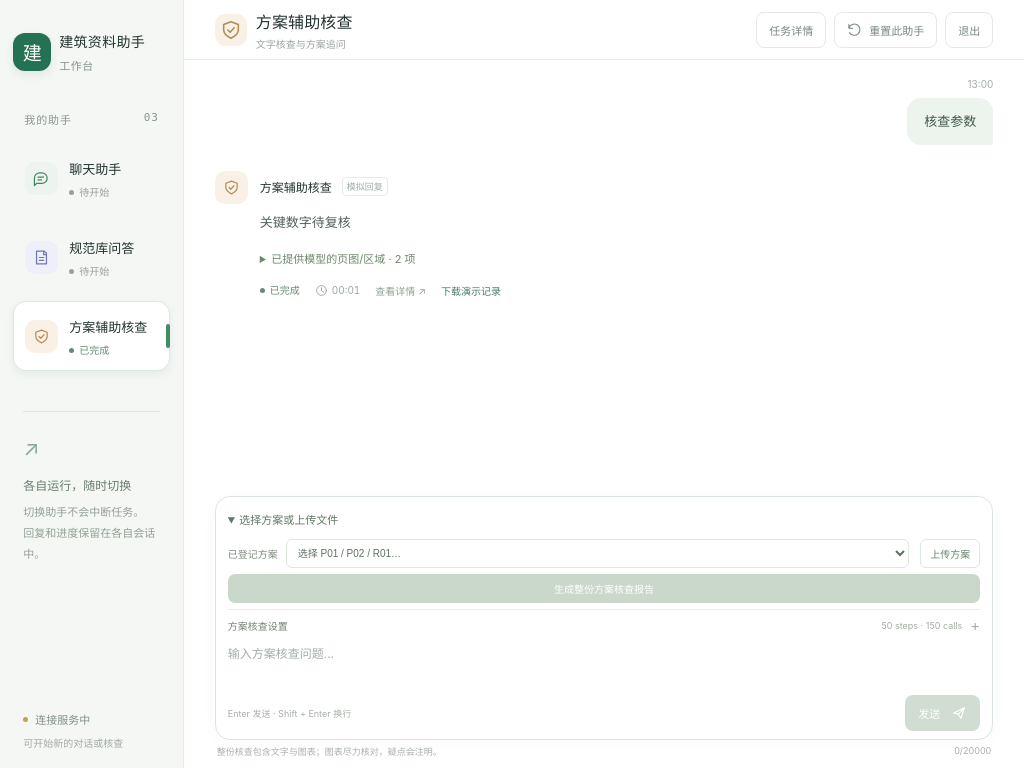
Test case: execution mode presentation › shows confirmed page-image records and region links without claiming recognition accuracy
Click the heading "已提供模型的页图/区域 · 2 项" at (343, 259), box [271, 252, 416, 266]
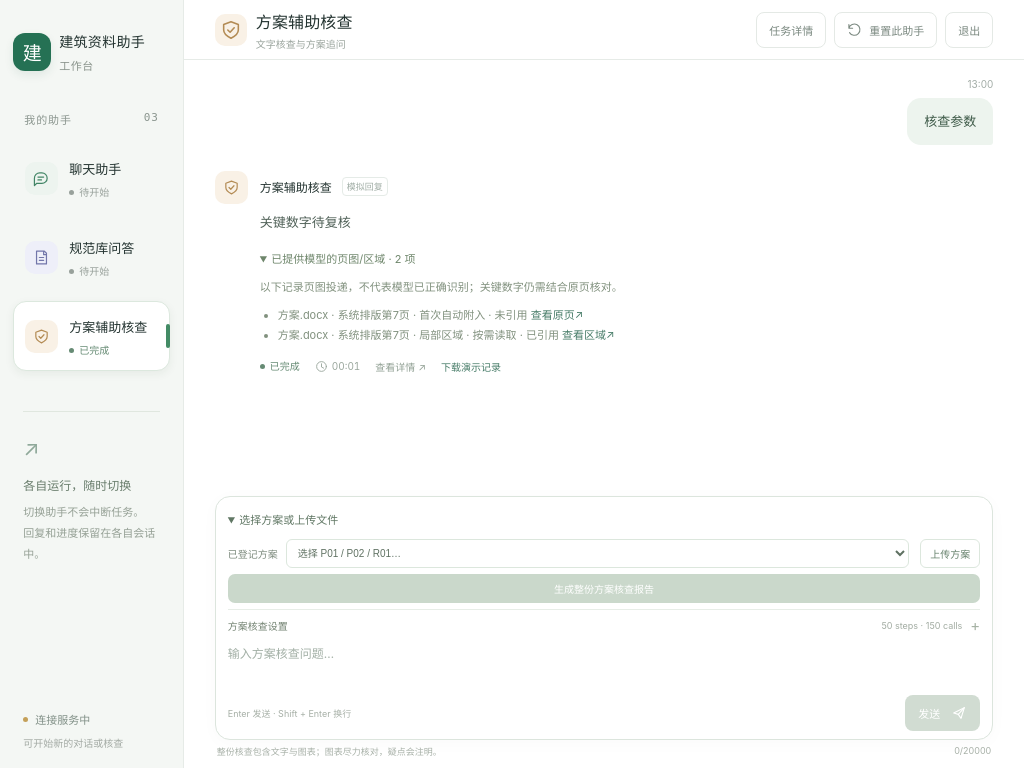
Now the text "以下记录页图投递，不代表模型已正确识别；关键数字仍需结合原页核对。" is shown, box [260, 280, 623, 294]
Now the text "方案.docx · 系统排版第7页 · 局部区域 · 按需读取 · 已引用" is shown, box [278, 328, 559, 342]
